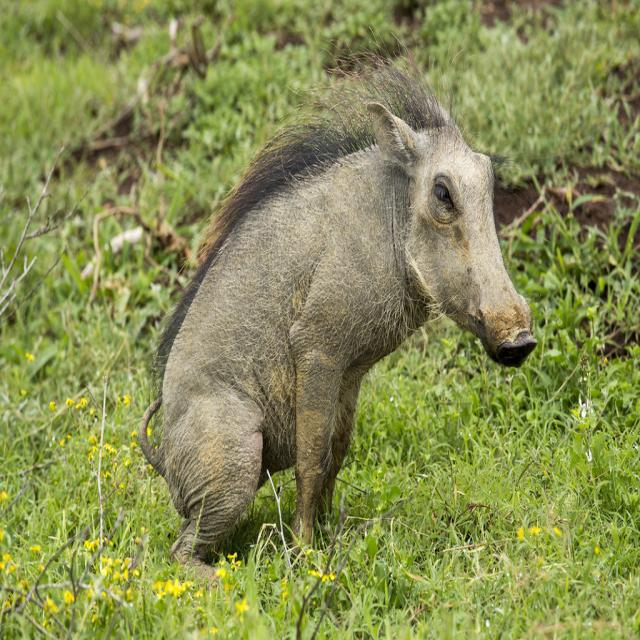Pig: (137, 26, 537, 586)
